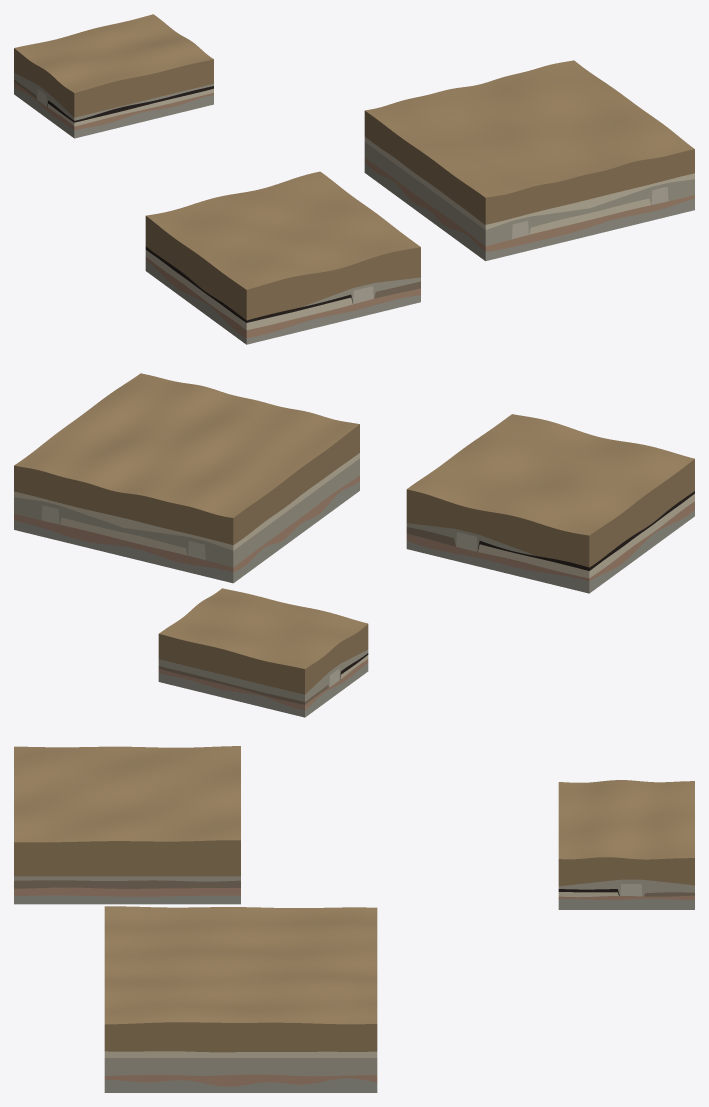
File: GraphExplorer_Example.obj
The picture shows the model from 3 angles, top to bottom: view 1: azimuth 30°, elevation 25°; view 2: azimuth 150°, elevation 25°; view 3: azimuth 270°, elevation 25°; orthographic projection. The views are drawn at different scales.
Parts seen in each view (by area): view 1: SU3001, SU1001, SU2001, SU3006, SU1004, SU3014, SU3011, SU1015, SU2004, SU3005, SU1014, SU2011 (+9 smaller); view 2: SU3001, SU1001, SU2001, SU3006, SU1004, SU3014, SU1015, SU3011, SU2004, SU3005, SU2011, SU1014 (+9 smaller); view 3: SU3001, SU1001, SU2001, SU3006, SU1004, SU3014, SU1015, SU3011, SU1014, SU3005, SU2011, SU2004 (+4 smaller).
Boxes of the visible parts, bbox=[...] form: SU3001: bbox=[364, 60, 694, 224]; SU1001: bbox=[145, 171, 420, 306]; SU2001: bbox=[14, 14, 213, 105]; SU3006: bbox=[364, 142, 694, 246]; SU1004: bbox=[145, 233, 420, 320]; SU3014: bbox=[364, 163, 694, 261]; SU3011: bbox=[364, 158, 694, 251]; SU1015: bbox=[145, 259, 420, 344]; SU2004: bbox=[14, 62, 213, 117]; SU3005: bbox=[364, 137, 694, 229]; SU1014: bbox=[145, 257, 420, 338]; SU2011: bbox=[14, 87, 213, 138]; SU3001: bbox=[14, 373, 359, 545]; SU1001: bbox=[406, 414, 694, 553]; SU2001: bbox=[158, 588, 368, 683]; SU3006: bbox=[14, 458, 359, 567]; SU1004: bbox=[406, 476, 694, 567]; SU3014: bbox=[14, 481, 359, 583]; SU1015: bbox=[406, 510, 694, 593]; SU3011: bbox=[14, 475, 359, 572]; SU2004: bbox=[158, 637, 368, 694]; SU3005: bbox=[14, 453, 359, 550]; SU2011: bbox=[158, 663, 368, 717]; SU1014: bbox=[406, 501, 694, 581]; SU3001: bbox=[104, 906, 377, 1052]; SU1001: bbox=[14, 746, 240, 861]; SU2001: bbox=[558, 780, 694, 874]; SU3006: bbox=[104, 1058, 377, 1076]; SU1004: bbox=[14, 860, 240, 876]; SU3014: bbox=[104, 1078, 377, 1092]; SU1015: bbox=[14, 895, 240, 904]; SU3011: bbox=[104, 1074, 377, 1086]; SU1014: bbox=[14, 887, 240, 896]; SU3005: bbox=[104, 1051, 377, 1057]; SU2011: bbox=[558, 899, 694, 909]; SU2004: bbox=[558, 872, 694, 886].
Size of the model in its own units: 28 by 5.95 by 30.
